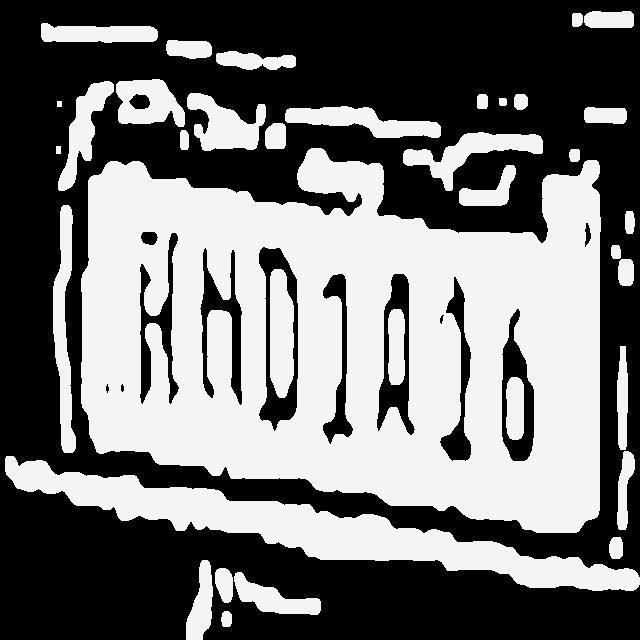1: (432, 274, 481, 460), (312, 268, 357, 447)
6: (492, 300, 540, 467)
a: (373, 272, 419, 443)
d: (255, 241, 305, 432)
m: (194, 239, 250, 409)
r: (130, 224, 186, 410)
